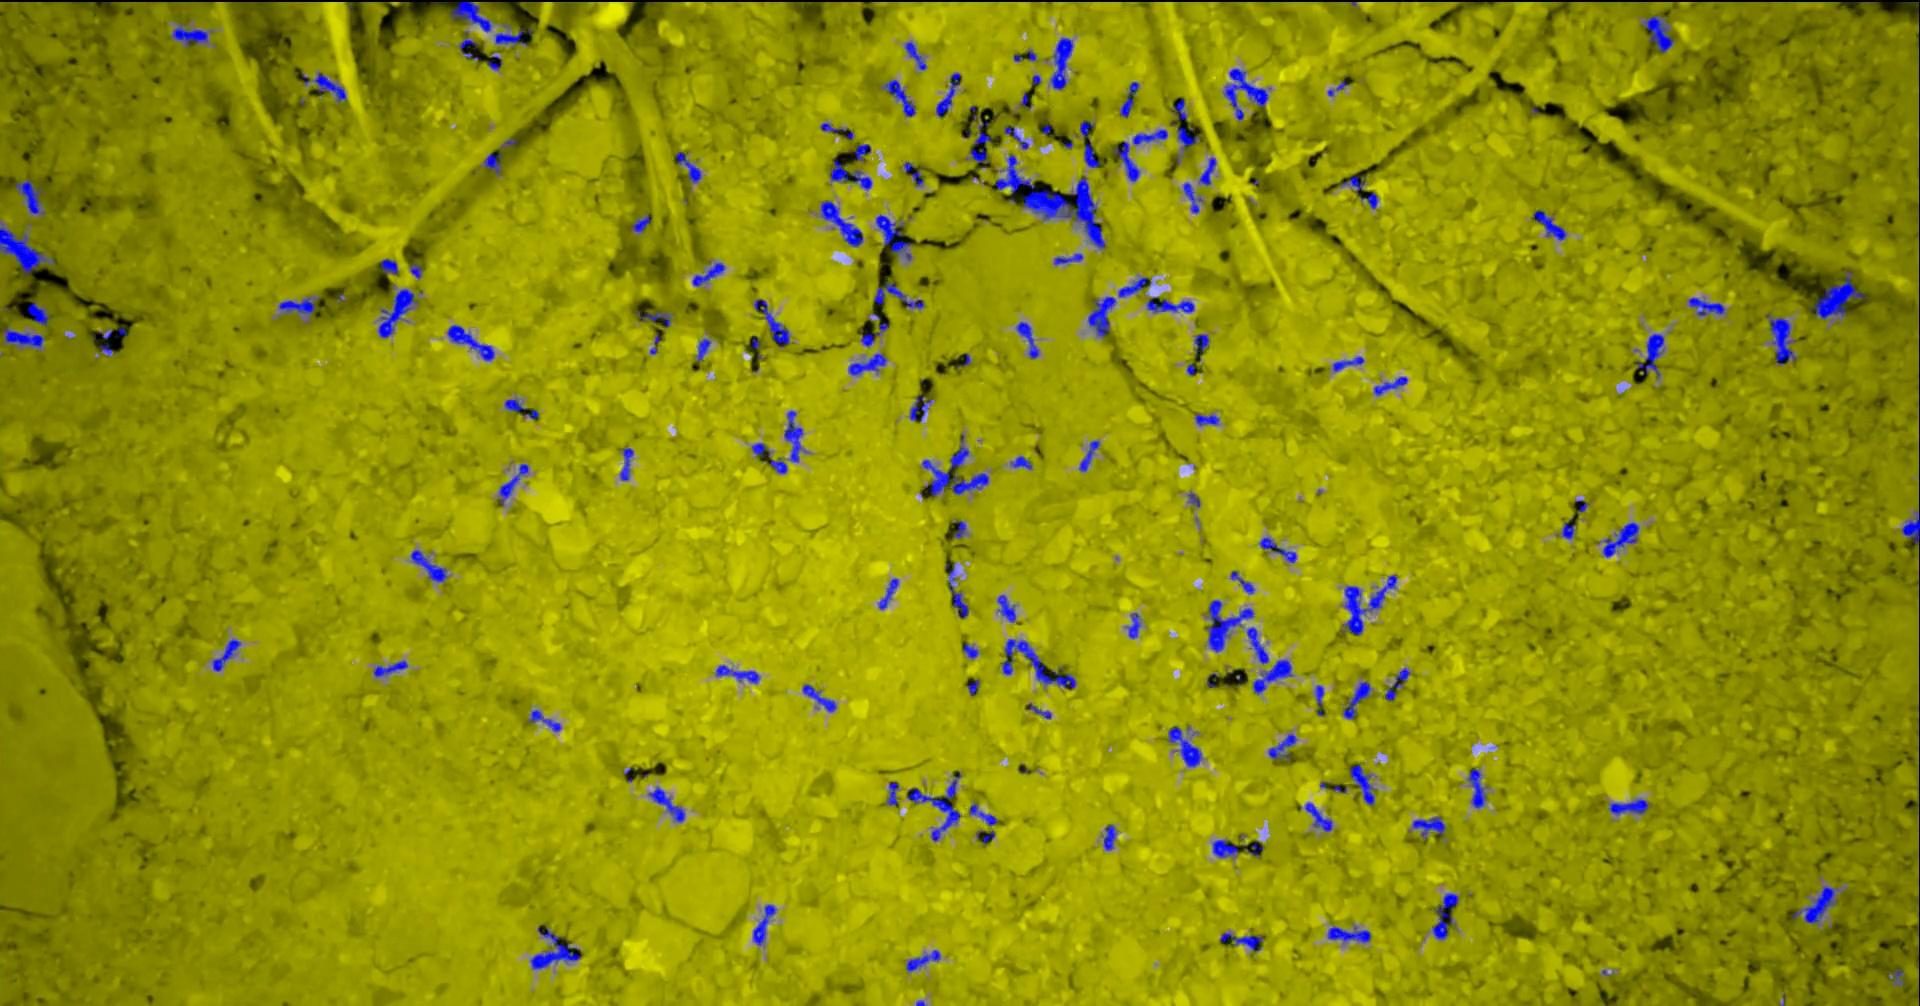ant: (1001, 638, 1076, 688), (905, 771, 960, 840), (1341, 574, 1397, 635), (1808, 269, 1865, 319), (1205, 600, 1253, 652), (0, 226, 53, 273), (1222, 69, 1269, 119), (530, 926, 580, 969), (820, 199, 862, 246), (378, 288, 417, 337), (1790, 887, 1836, 923), (875, 213, 910, 260), (753, 298, 789, 345), (447, 324, 494, 359), (1768, 312, 1796, 365), (872, 281, 923, 307), (1252, 659, 1291, 694), (1167, 727, 1201, 766), (450, 0, 491, 32), (829, 158, 871, 189), (1603, 522, 1639, 558), (301, 72, 345, 102), (1636, 333, 1663, 379), (648, 786, 684, 821), (945, 563, 968, 617), (498, 464, 527, 506), (1431, 893, 1458, 939), (883, 79, 916, 116), (410, 549, 447, 582), (1049, 37, 1072, 89), (1087, 296, 1115, 337), (935, 72, 960, 117), (1349, 763, 1374, 805), (1112, 141, 1139, 180), (1644, 15, 1672, 52), (1342, 681, 1370, 718), (969, 119, 990, 166), (1531, 210, 1566, 239), (783, 410, 803, 462), (1299, 801, 1332, 831), (15, 179, 43, 213), (1258, 536, 1295, 561), (752, 904, 775, 945), (803, 683, 836, 711), (3, 326, 44, 348), (212, 639, 240, 671), (169, 23, 207, 46), (1079, 121, 1098, 166), (715, 664, 759, 683), (1219, 932, 1263, 951), (1016, 321, 1039, 358), (1384, 667, 1410, 700), (848, 353, 886, 375), (1246, 627, 1269, 663), (1145, 296, 1194, 312), (1412, 815, 1445, 840), (1267, 733, 1297, 760), (676, 151, 701, 182), (692, 262, 724, 286), (1467, 767, 1486, 807), (504, 398, 538, 419), (905, 949, 940, 970), (1608, 798, 1648, 815), (1117, 276, 1150, 297), (1327, 926, 1370, 942), (528, 709, 560, 730), (969, 801, 997, 826), (278, 297, 319, 314), (495, 28, 532, 46), (1688, 297, 1724, 315), (1119, 81, 1138, 116), (1373, 376, 1407, 395), (1078, 439, 1098, 471), (904, 41, 926, 70), (877, 578, 898, 608), (861, 323, 888, 345), (1901, 511, 1919, 545), (25, 301, 50, 325), (1003, 126, 1029, 149), (909, 395, 932, 420), (819, 122, 853, 138), (373, 661, 408, 677), (1183, 182, 1201, 213), (1176, 126, 1199, 150), (635, 311, 670, 326), (458, 30, 477, 58), (1230, 570, 1253, 593), (1131, 130, 1167, 144), (1197, 158, 1215, 185), (903, 161, 923, 185), (1338, 175, 1365, 193), (997, 594, 1015, 621), (1211, 840, 1238, 857), (1332, 356, 1363, 371), (618, 447, 632, 480), (483, 152, 502, 174), (98, 328, 113, 354), (1194, 334, 1208, 361), (1027, 702, 1051, 718), (631, 215, 650, 232), (1242, 840, 1262, 856), (1053, 253, 1082, 264), (1126, 612, 1139, 638), (1103, 824, 1116, 850), (1172, 97, 1186, 119), (696, 338, 710, 361), (1359, 191, 1377, 208), (378, 258, 397, 274), (1194, 413, 1218, 426), (1010, 455, 1031, 469), (886, 781, 898, 805), (1887, 968, 1903, 984), (750, 442, 770, 456), (975, 829, 994, 843), (855, 144, 870, 160), (963, 641, 978, 658), (409, 259, 422, 278), (770, 459, 786, 473), (1561, 522, 1575, 539), (952, 520, 965, 537), (1314, 683, 1323, 705), (488, 56, 502, 69), (966, 680, 979, 694), (1187, 492, 1199, 506)
